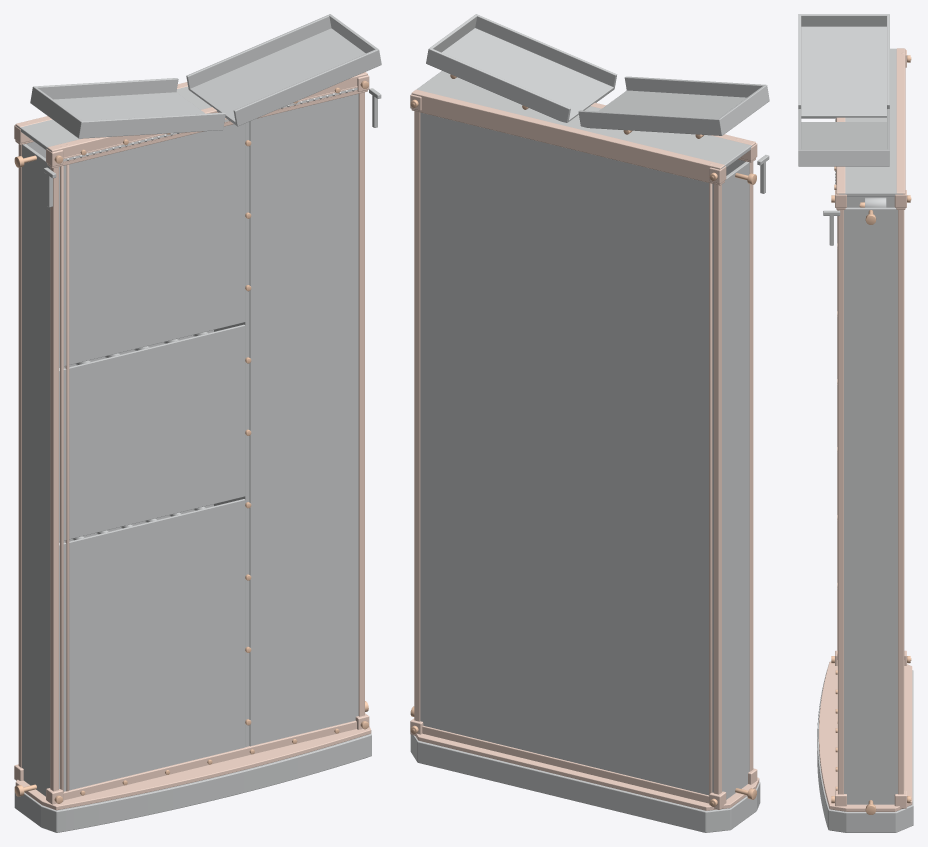
File: AcrylicGameBoard.fbx
3 renders of one model, left to right at view 1: azimuth 30°, elevation 25°; view 2: azimuth 150°, elevation 25°; view 3: azimuth 270°, elevation 25°, orthographic. The views are drawn at different scales.
Visible parts, largest first — view 1: FrontPlate_RightBay, FrontPlate_Lower, FrontPlate_Upper, FrontPlate_Mid, SidePanel_L, InletChute_R, InletChute_L, BasePlinth_Skirt, Post_LF, Post_RF, BaseTrim, Mullion (+6 smaller); view 2: BackPlate, SidePanel_L, InletChute_R, InletChute_L, BasePlinth_Skirt, TopRail_Back, Post_LB, TopDeck, Post_RB, Post_LF, BaseTrim, BotRail_Back (+1 smaller); view 3: SidePanel_R, InletChute_L, InletChute_R, BaseTrim, Post_RB, Post_RF, TopDeck, BasePlinth_Skirt, TopRail_Back, TieRod_2, TieRod_0, TopRail_Front (+1 smaller).
Part boxes in pixels (bbox=[...]): FrontPlate_RightBay: bbox=[249, 94, 358, 746]; FrontPlate_Lower: bbox=[59, 499, 245, 791]; FrontPlate_Upper: bbox=[59, 123, 245, 367]; FrontPlate_Mid: bbox=[59, 324, 245, 541]; SidePanel_L: bbox=[22, 144, 50, 796]; InletChute_R: bbox=[186, 14, 381, 126]; InletChute_L: bbox=[30, 78, 225, 138]; BasePlinth_Skirt: bbox=[14, 733, 371, 832]; Post_LF: bbox=[50, 146, 58, 791]; Post_RF: bbox=[358, 73, 364, 716]; BaseTrim: bbox=[15, 726, 371, 810]; Mullion: bbox=[214, 121, 249, 746]; BackPlate: bbox=[420, 112, 713, 795]; SidePanel_L: bbox=[722, 161, 749, 799]; InletChute_R: bbox=[426, 14, 617, 122]; InletChute_L: bbox=[578, 76, 769, 135]; BasePlinth_Skirt: bbox=[410, 734, 760, 832]; TopRail_Back: bbox=[411, 89, 724, 185]; Post_LB: bbox=[713, 163, 721, 809]; TopDeck: bbox=[416, 71, 751, 168]; Post_RB: bbox=[414, 90, 421, 721]; Post_LF: bbox=[745, 141, 753, 771]; BaseTrim: bbox=[415, 733, 759, 810]; BotRail_Back: bbox=[422, 725, 709, 803]; SidePanel_R: bbox=[844, 207, 897, 804]; InletChute_L: bbox=[798, 14, 889, 118]; InletChute_R: bbox=[798, 109, 889, 166]; BaseTrim: bbox=[818, 661, 912, 811]; Post_RB: bbox=[898, 189, 903, 808]; Post_RF: bbox=[838, 189, 843, 794]; TopDeck: bbox=[839, 48, 902, 196]; BasePlinth_Skirt: bbox=[817, 670, 913, 832]; TopRail_Back: bbox=[896, 48, 905, 209]; TieRod_2: bbox=[901, 52, 904, 659]; TieRod_0: bbox=[837, 210, 837, 665]; TopRail_Front: bbox=[836, 117, 845, 209].
Size of the model in its own units: 124 by 244 by 37.81.
